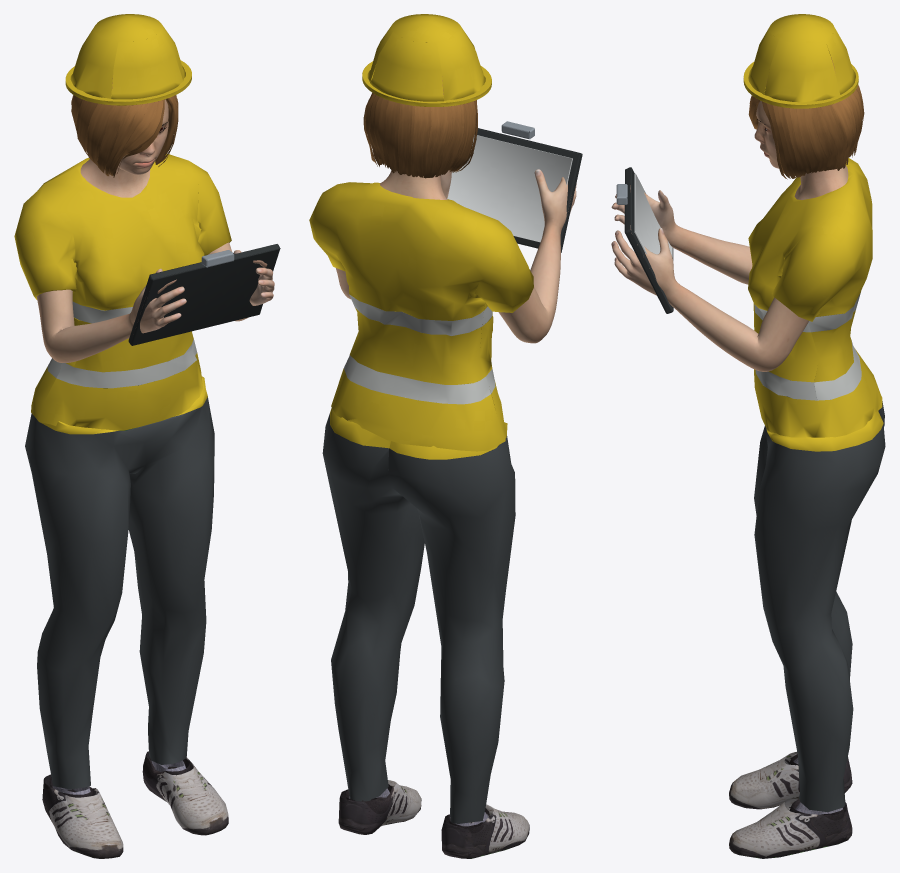
Rendered from trabajadora-portapapeles.glb.
3 renders of one model, left to right at view 1: azimuth 30°, elevation 25°; view 2: azimuth 150°, elevation 25°; view 3: azimuth 270°, elevation 25°, orthographic. The views are drawn at different scales.
Parts seen in each view (by area): view 1: female_casualsuit01, Taylor | anatomical body, shoes05, Worker | original hardhat shell, Tablet case, bob02, Worker | integral hardhat brim; view 2: female_casualsuit01, Worker | original hardhat shell, Tablet display, bob02, Taylor | anatomical body, shoes05, Tablet case, Worker | integral hardhat brim; view 3: female_casualsuit01, Taylor | anatomical body, shoes05, Worker | original hardhat shell, bob02, Tablet case, Tablet display, Worker | integral hardhat brim.
Part boxes in pixels (x1=…): female_casualsuit01: x1=14, y1=154, x2=231, y2=789; Taylor | anatomical body: x1=37, y1=99, x2=274, y2=362; shoes05: x1=42, y1=751, x2=228, y2=858; Worker | original hardhat shell: x1=70, y1=14, x2=185, y2=99; Tablet case: x1=128, y1=244, x2=280, y2=345; bob02: x1=71, y1=78, x2=178, y2=177; Worker | integral hardhat brim: x1=65, y1=60, x2=191, y2=105; female_casualsuit01: x1=309, y1=182, x2=533, y2=823; Worker | original hardhat shell: x1=367, y1=14, x2=485, y2=101; Tablet display: x1=447, y1=135, x2=572, y2=242; bob02: x1=363, y1=76, x2=477, y2=178; Taylor | anatomical body: x1=336, y1=169, x2=576, y2=343; shoes05: x1=338, y1=780, x2=529, y2=858; Tablet case: x1=477, y1=128, x2=582, y2=252; Worker | integral hardhat brim: x1=362, y1=61, x2=491, y2=106; female_casualsuit01: x1=748, y1=158, x2=885, y2=812; Taylor | anatomical body: x1=611, y1=101, x2=848, y2=371; shoes05: x1=729, y1=752, x2=852, y2=858; Worker | original hardhat shell: x1=748, y1=14, x2=855, y2=102; bob02: x1=748, y1=57, x2=864, y2=179; Tablet case: x1=624, y1=167, x2=673, y2=313; Tablet display: x1=634, y1=173, x2=672, y2=257; Worker | integral hardhat brim: x1=743, y1=56, x2=858, y2=108.
Bounding box in the file's own units: 0.4618 × 1.78 × 0.5461.
14 materials, 14 textured.
